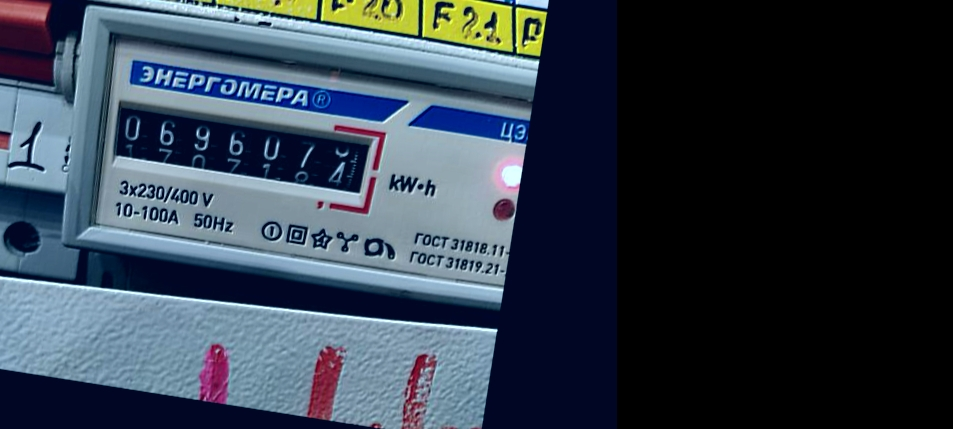0: (119, 111, 145, 144), (260, 132, 283, 164)
4: (324, 157, 347, 189)
6: (224, 127, 249, 160), (155, 117, 178, 148)
7: (294, 137, 317, 170)
9: (190, 122, 214, 154)
screen: (96, 83, 390, 217)
